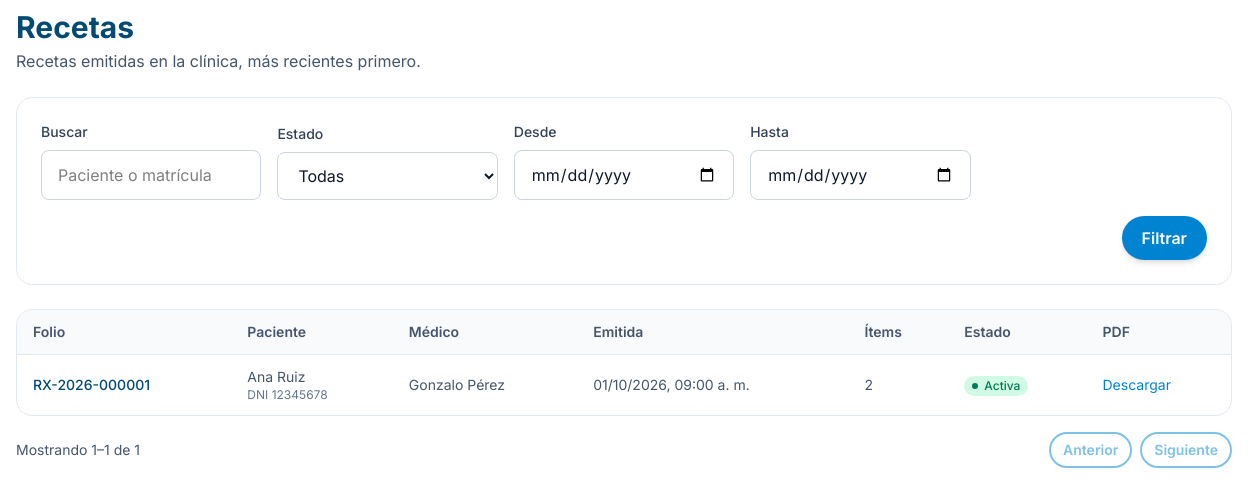
AdminPrescriptionsPage › filtra por estado anulado
expect the text "RX-2026-000001" is shown: met, box [17, 355, 231, 415]
Select "Anuladas" in the dropdown labelled "Estado" at [388, 176], box [277, 152, 498, 200]
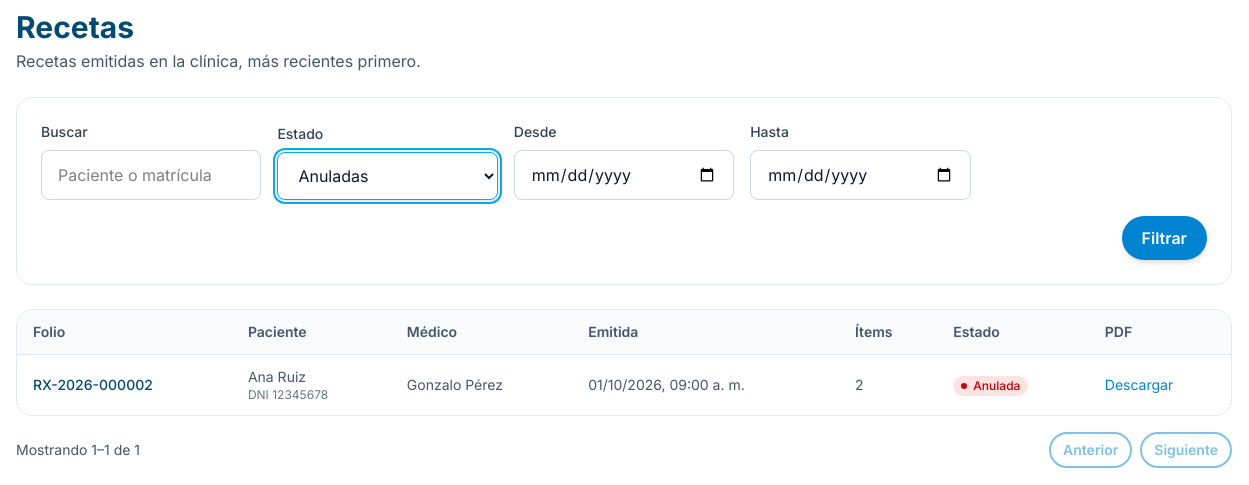
expect the text "RX-2026-000002" is shown: met, box [17, 355, 232, 415]
expect the text "RX-2026-000001" is gone: met
